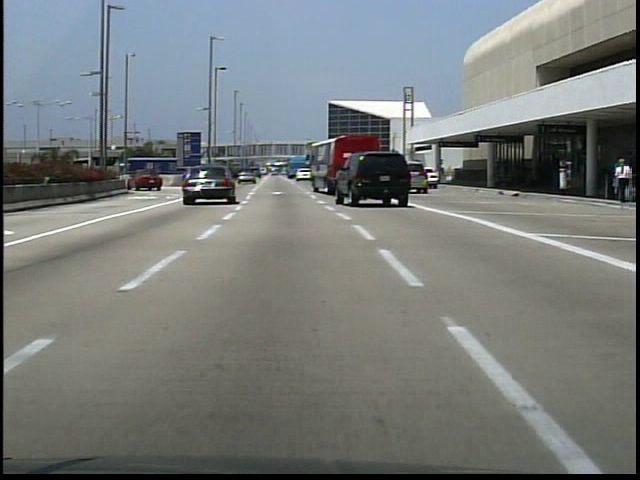person: (606, 156, 633, 207)
